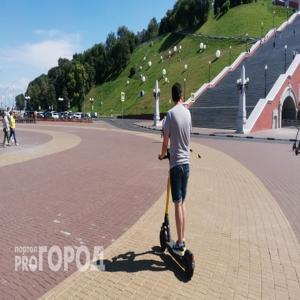human on a scooter: (159, 82, 201, 282)
